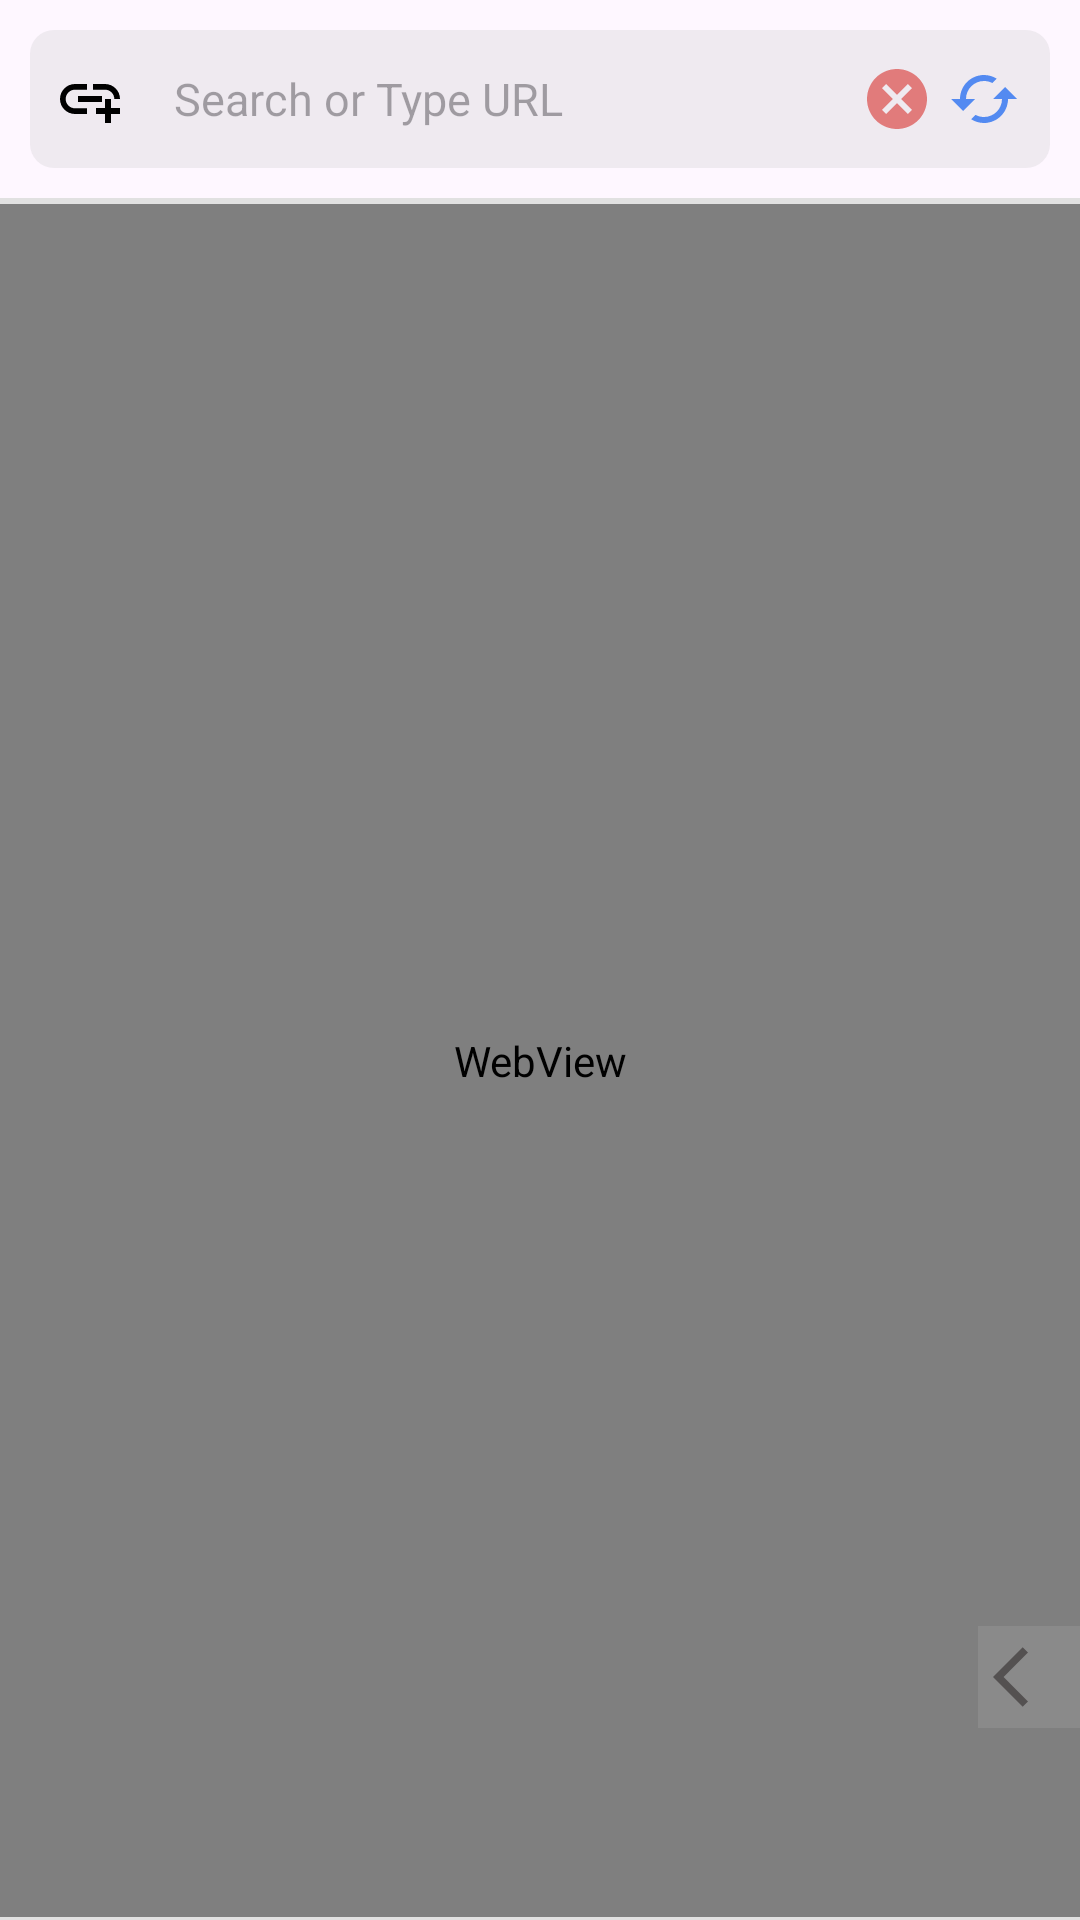

Locate icon controls on the screen. Image size 1080x1920, boxes as [x1=x1, y1=y1, x2=x2, y2=y2].
add link: [x1=60, y1=84, x2=120, y2=123]
arrow back: [x1=978, y1=1626, x2=1080, y2=1728]
cached: [x1=951, y1=75, x2=1017, y2=123]
cancel: [x1=867, y1=69, x2=927, y2=129]
